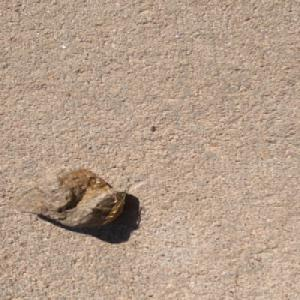Rock: (6, 165, 127, 229)
